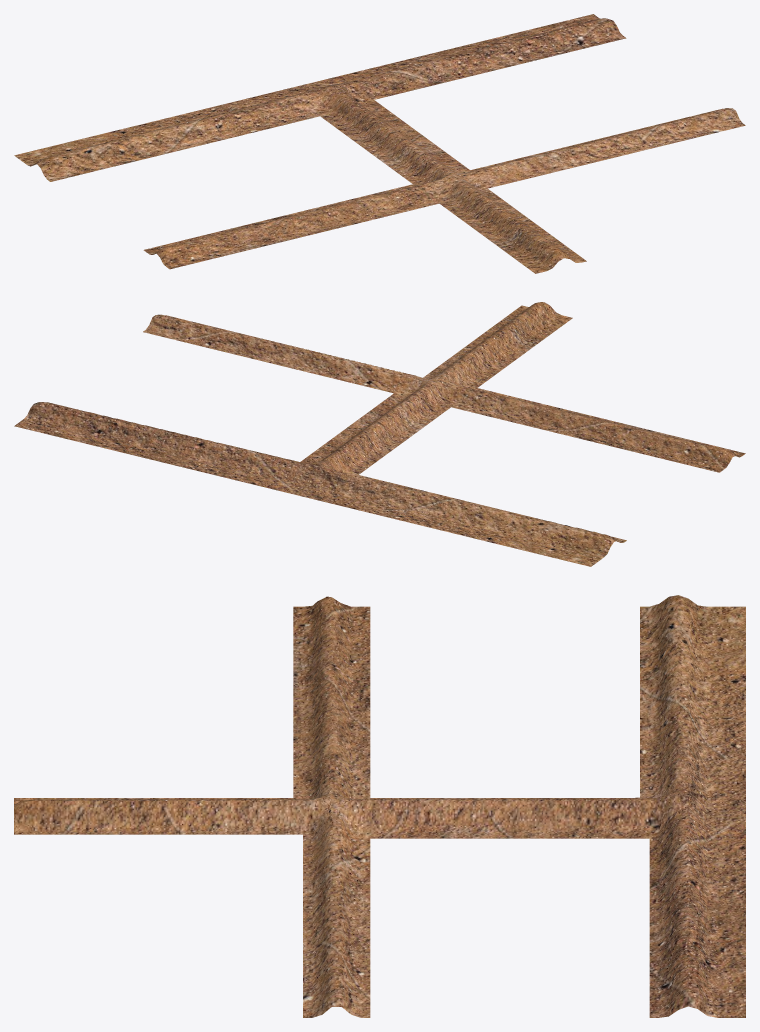
File: RICE_FIELD_BAR.fbx
3 views of the same model, one above another, from view 1: azimuth 30°, elevation 25°; view 2: azimuth 150°, elevation 25°; view 3: azimuth 270°, elevation 25° (orthographic). The views are drawn at different scales.
Parts seen in each view (by area): view 1: Plane.001; view 2: Plane.001; view 3: Plane.001.
Part boxes in pixels (left/top/right/bottom): Plane.001: left=14, top=14, right=745, bottom=273; Plane.001: left=14, top=302, right=745, bottom=566; Plane.001: left=14, top=595, right=745, bottom=1017.
Bounding box in the file's own units: 1823 × 45.31 × 1372.
